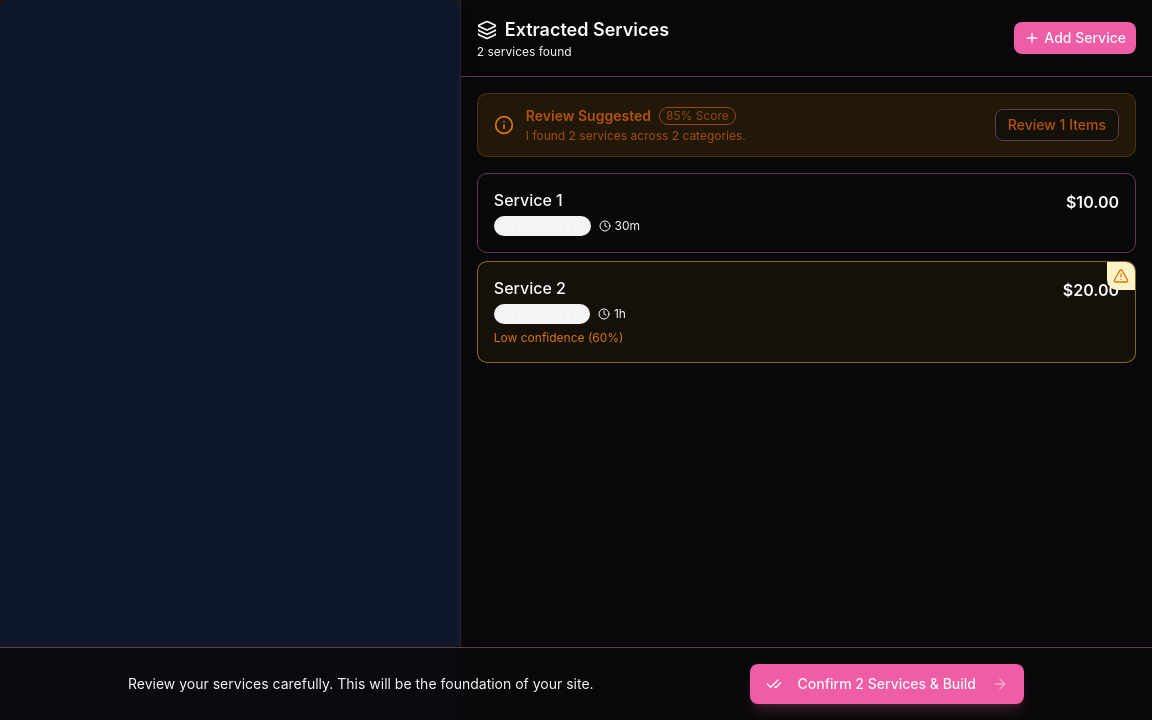
Test: SmartLedger Integration › deletes a service
# Click to edit first
Click the heading "Service 1" at {"x": 528, "y": 200}, box [494, 190, 563, 210]
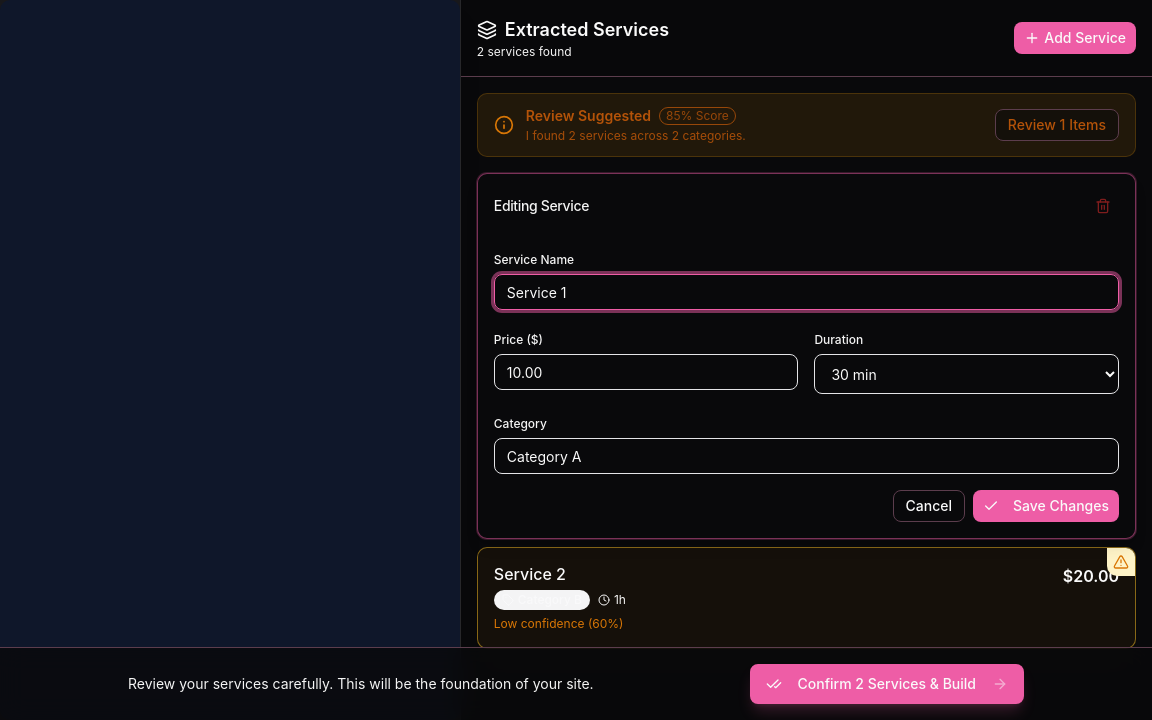
# Click trash icon
Click the button titled "Delete Service" at {"x": 1103, "y": 206}, box [1087, 190, 1119, 222]
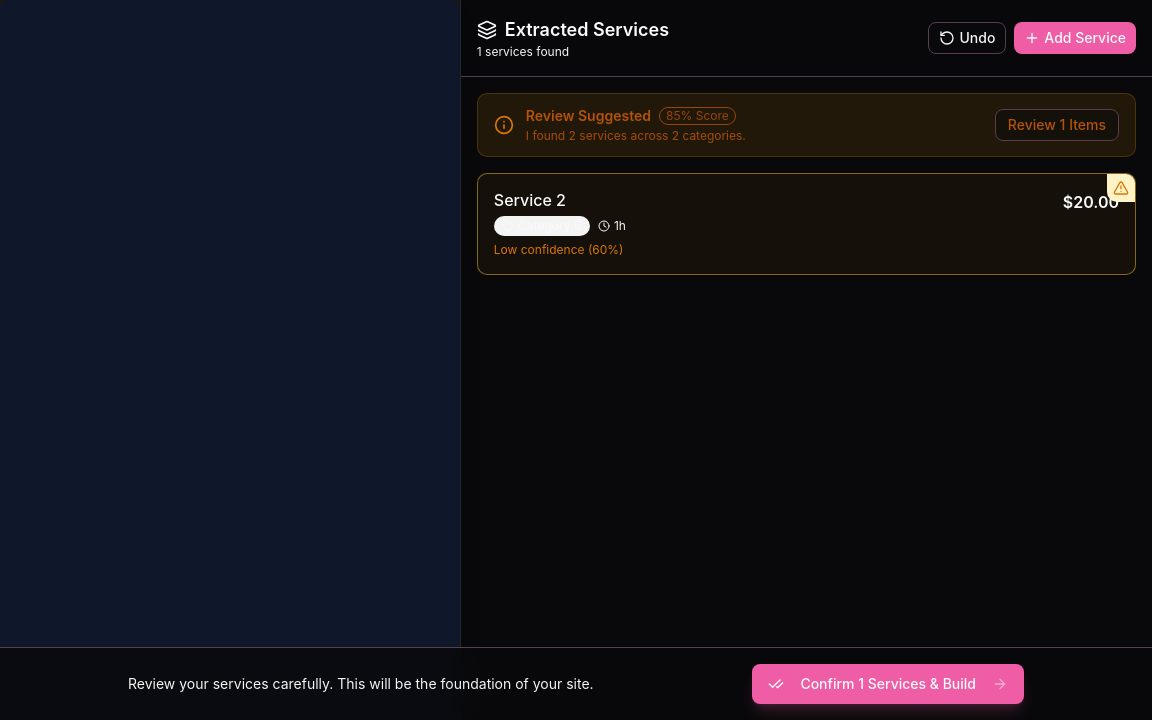
Expected: the button "Service 1" is not shown
Expected: the text "1 services found" is shown, [477, 44, 569, 59]
